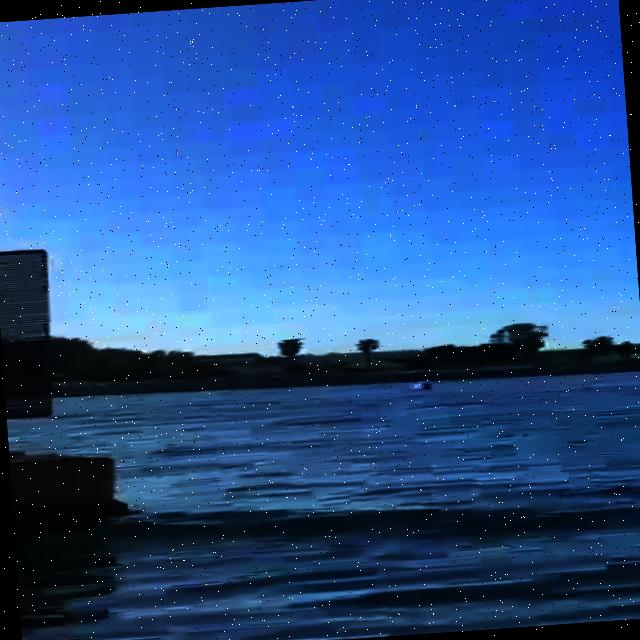marque: (1, 22, 131, 531)
